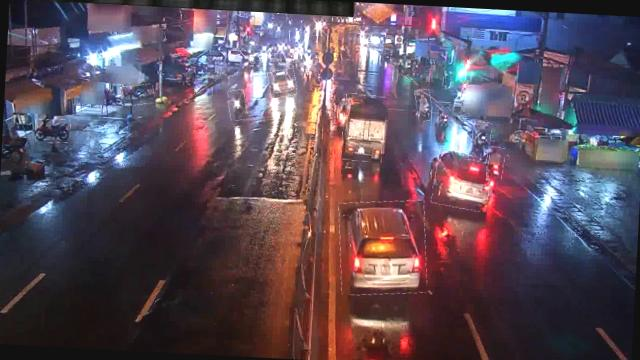Bike: (34, 117, 70, 143), (469, 121, 491, 162), (430, 101, 450, 141), (120, 83, 154, 106), (226, 90, 248, 122), (413, 89, 432, 122), (486, 146, 504, 180)
Car: (336, 197, 430, 298), (431, 148, 493, 210), (267, 68, 297, 98)
Truck: (342, 94, 386, 162)
